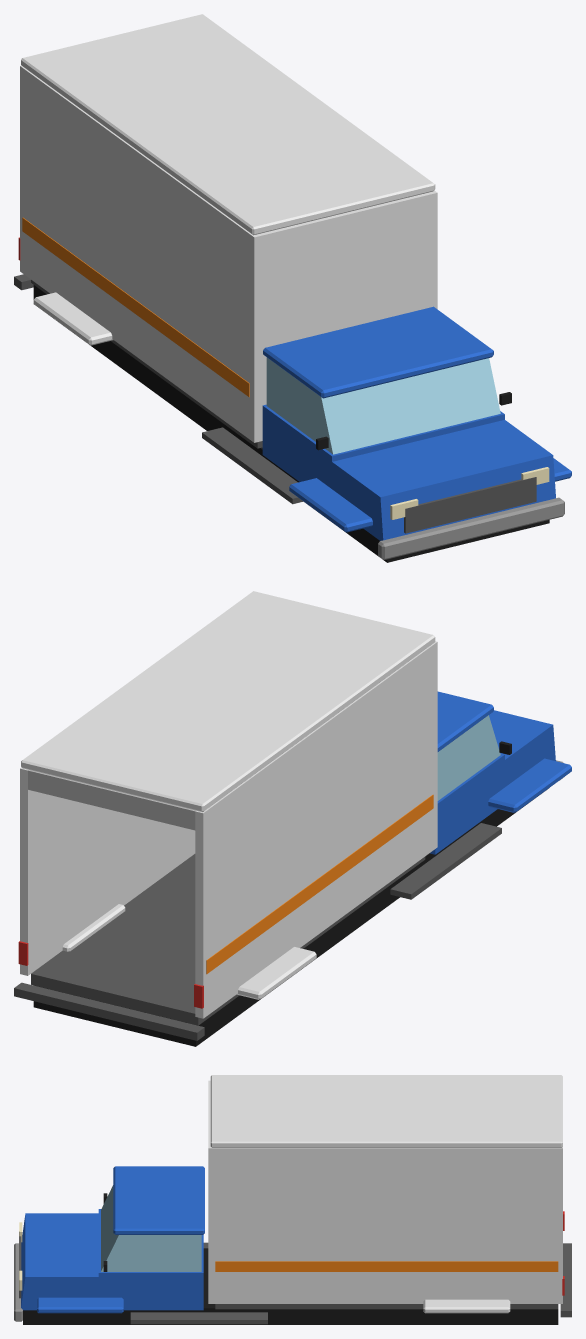
Rendered from TRK_BoxTruck_Body.fbx.
3 renders of one model, top to bottom at view 1: azimuth 30°, elevation 25°; view 2: azimuth 150°, elevation 25°; view 3: azimuth 270°, elevation 25°, orthographic. The views are drawn at different scales.
Visible parts, largest first — view 1: TRK_BoxTruck_Body; view 2: TRK_BoxTruck_Body; view 3: TRK_BoxTruck_Body.
Boxes of the visible parts, x1,y1,x2,y2 form: TRK_BoxTruck_Body: (14, 14, 571, 562); TRK_BoxTruck_Body: (14, 591, 571, 1046); TRK_BoxTruck_Body: (14, 1075, 571, 1324).
Size of the model in its own units: 8.7 by 9 by 24.4.
